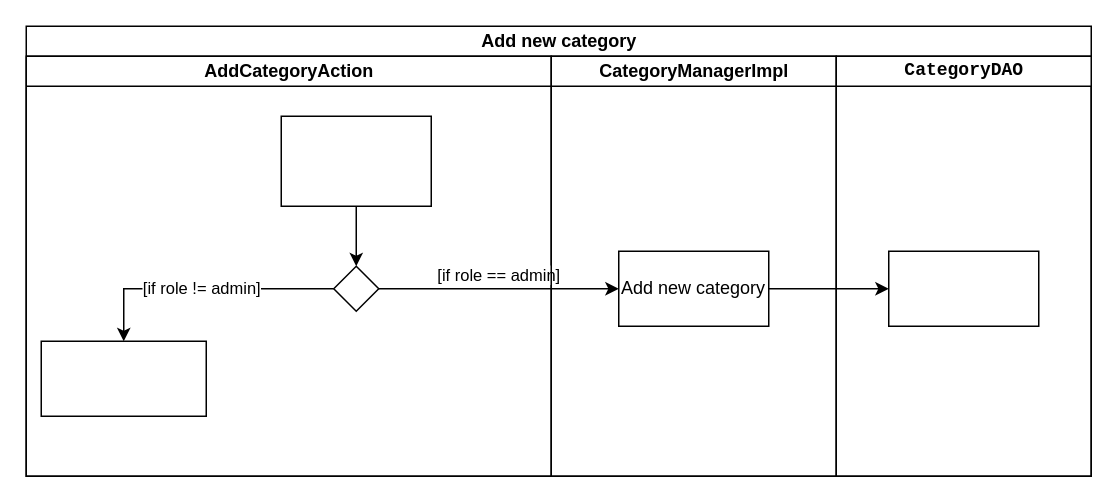
Some shapes in this 1118 by 503 pixel diagram are drawn without their labels. The shapes that lost their labels are listed below. From the top down, each one's centre as x and y in pixels, then its label:
At (x=355, y=160): "User enters category name".
At (x=963, y=288): "store category object to database".
At (x=123, y=378): "Stay on categories page".
